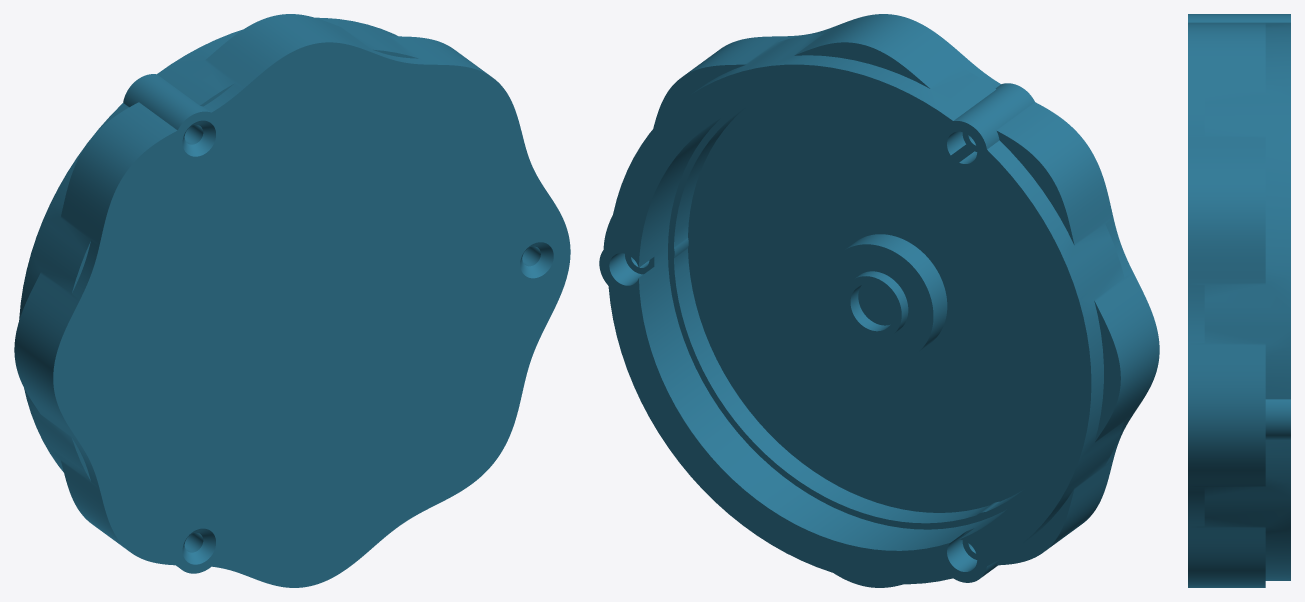
Rendered from Cap_wave_rim.obj.
3 views of the same model, side by side, from view 1: azimuth 30°, elevation 25°; view 2: azimuth 150°, elevation 25°; view 3: azimuth 270°, elevation 25° (orthographic).
Parts seen in each view (by area): view 1: Cap_wave_rim; view 2: Cap_wave_rim; view 3: Cap_wave_rim.
Boxes of the visible parts, box(x1,y1,x2,y2) form: Cap_wave_rim: box(14, 14, 570, 587); Cap_wave_rim: box(599, 14, 1159, 587); Cap_wave_rim: box(1188, 14, 1290, 587).
Size of the model in its own units: 61.6 by 61.6 by 10.6.
